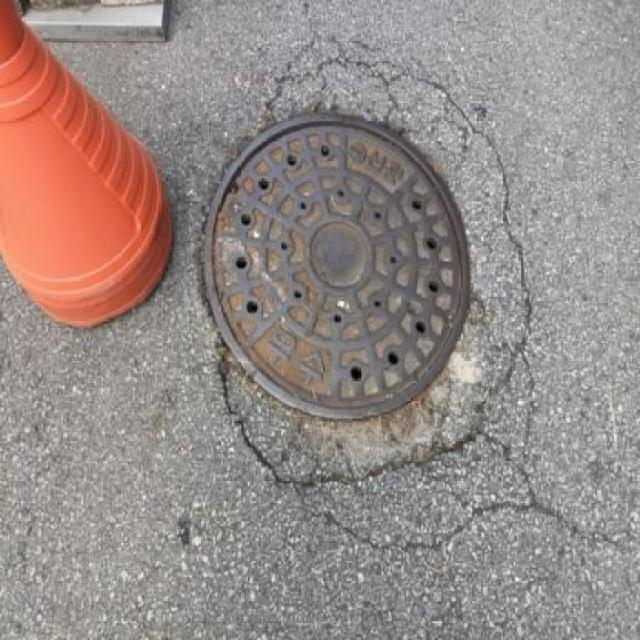Sewer Cover: (183, 106, 510, 401)
